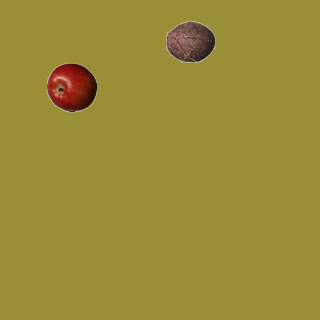Apple Braeburn: (46, 62, 96, 112)
Cocos: (165, 16, 215, 66)
